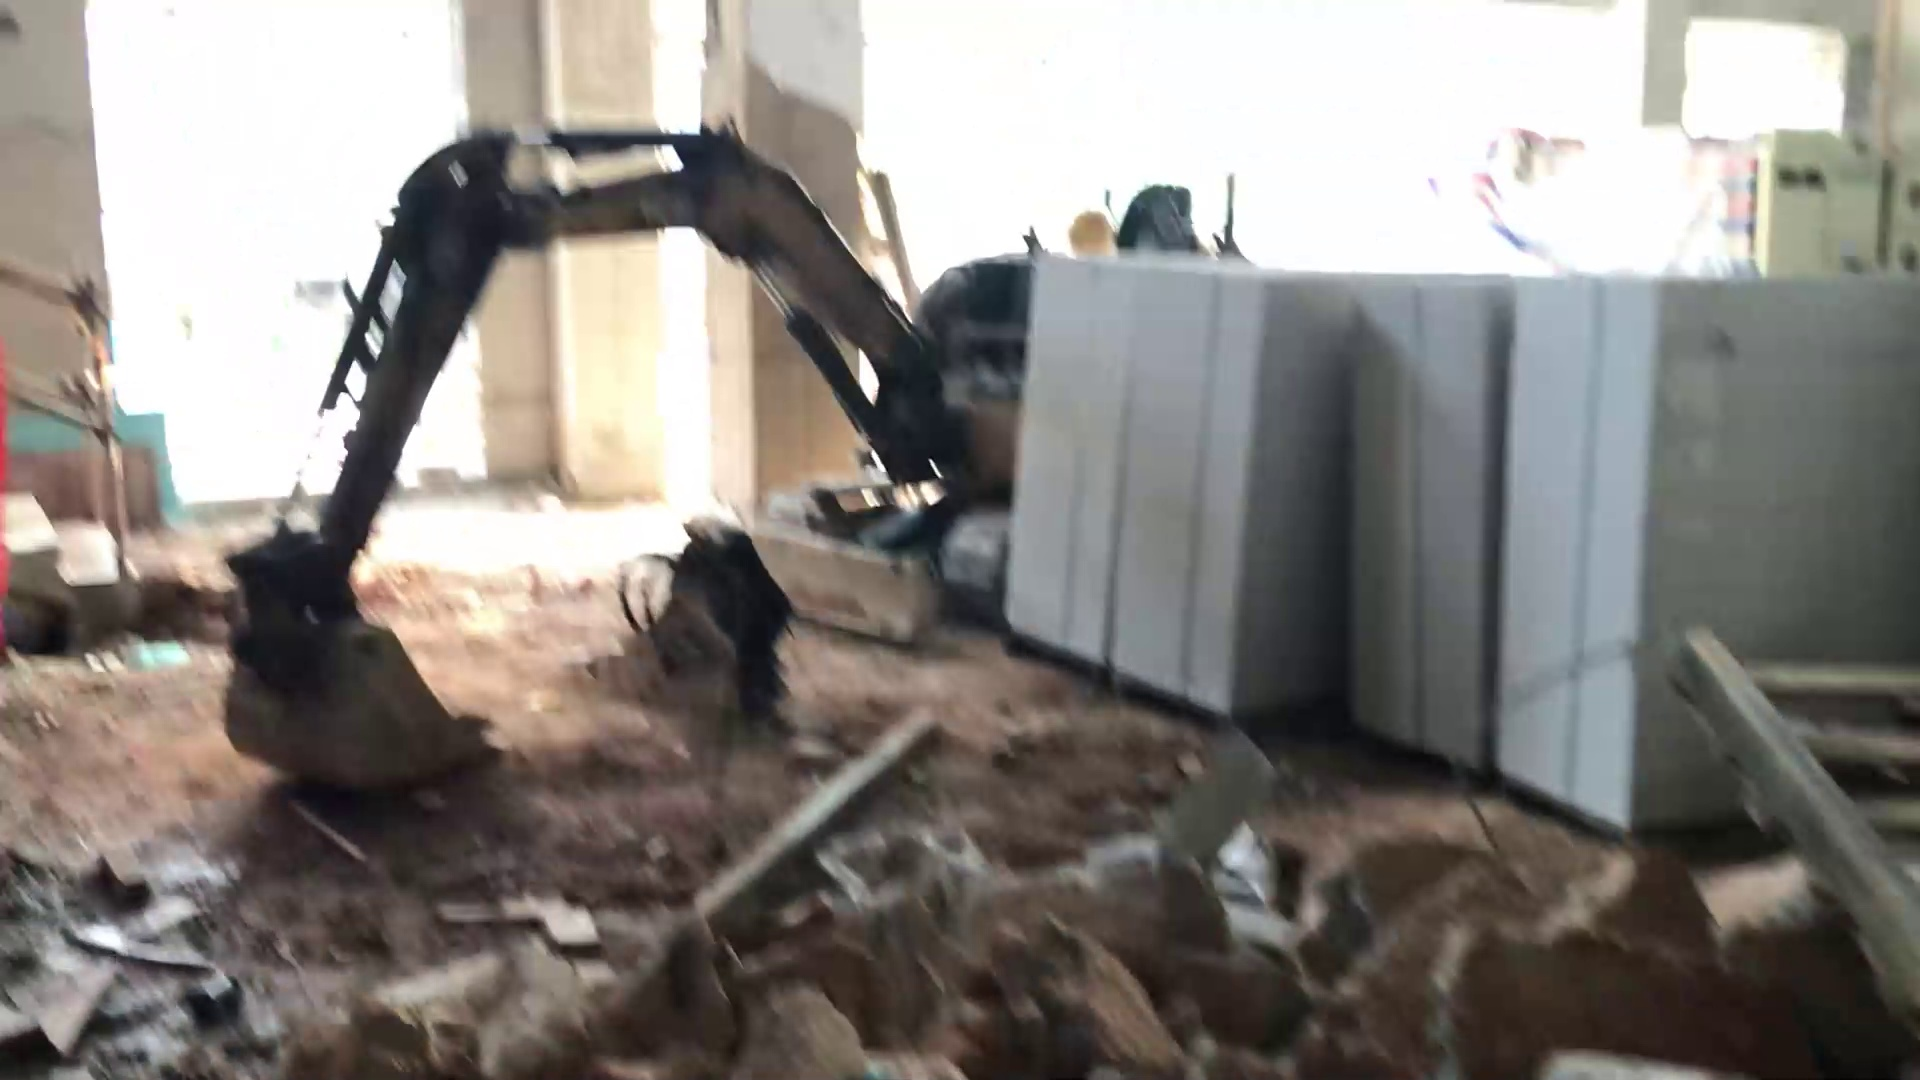brick: (1005, 252, 1920, 837)
helmet: (1065, 204, 1121, 252)
